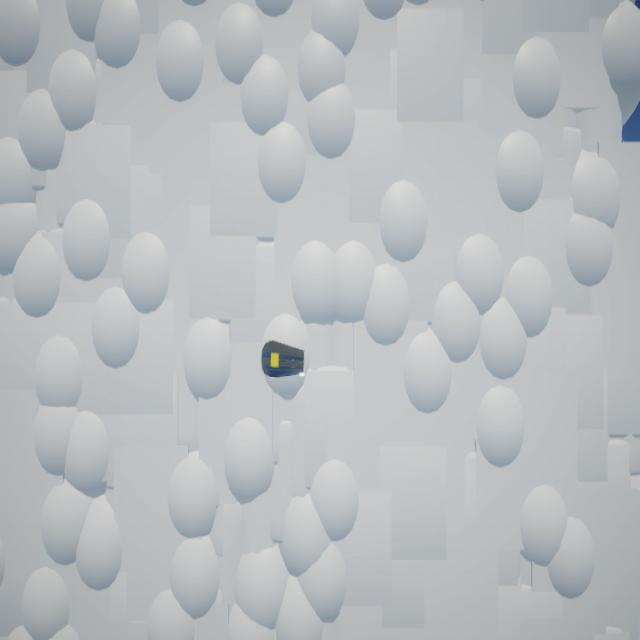handle_folk: (262, 342, 305, 379)
